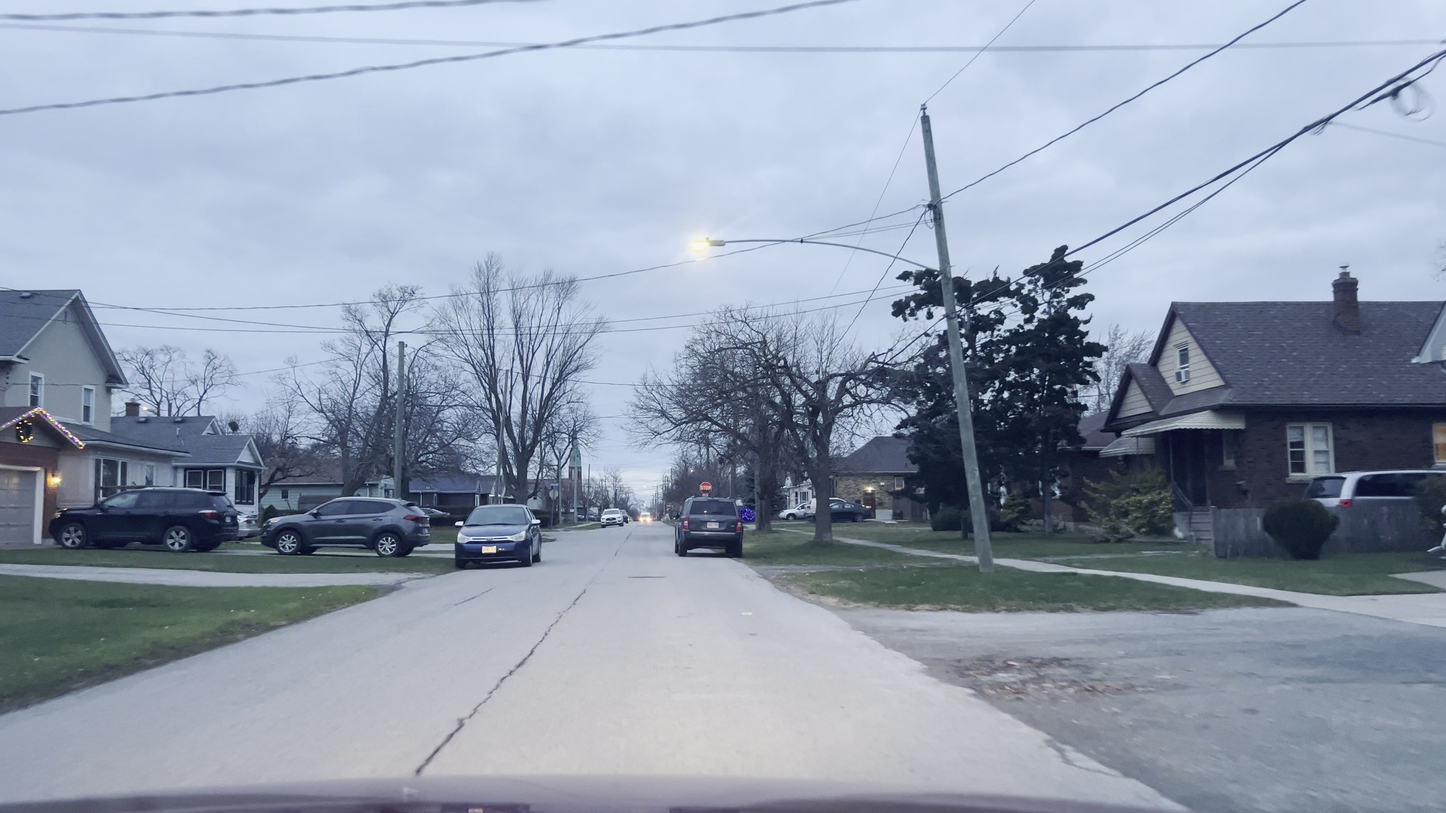cracks: (392, 657, 541, 772), (512, 586, 601, 647)
pothole: (899, 630, 1216, 720)
